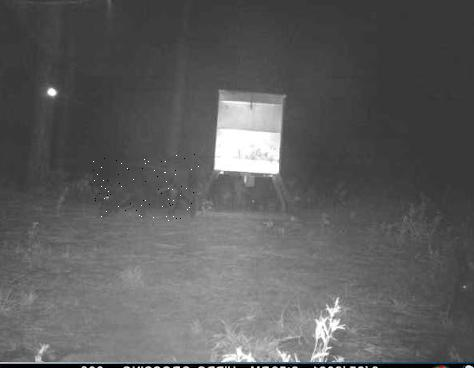Hog: (93, 154, 200, 221)
